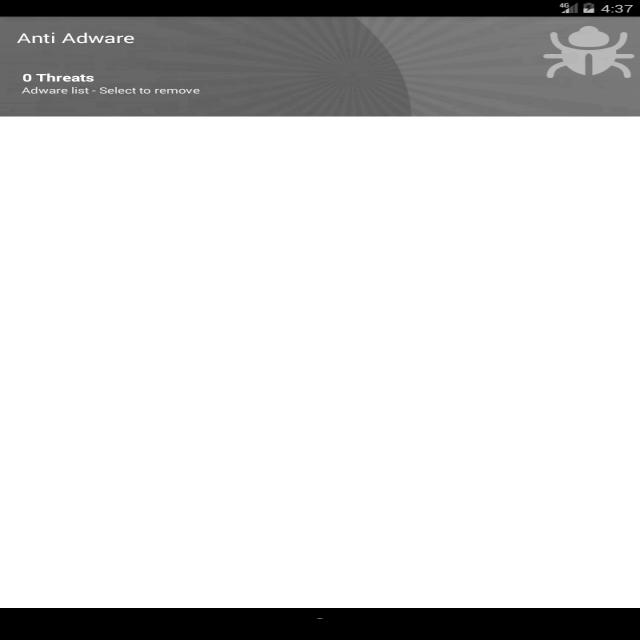ImageView: (534, 21, 638, 89)
TextView: (18, 68, 214, 98), (9, 28, 158, 53)
